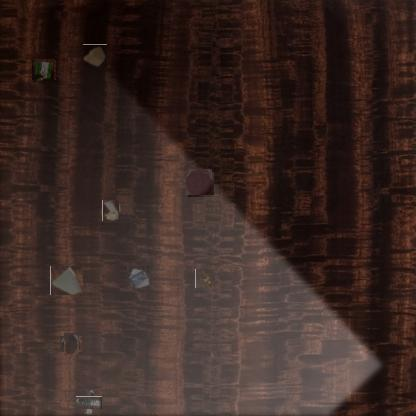dirty: (51, 265, 83, 296), (126, 266, 150, 290), (83, 44, 107, 67), (34, 59, 56, 81), (101, 201, 121, 220), (195, 269, 215, 288), (80, 393, 99, 412)
liquid: (187, 170, 213, 196), (62, 335, 80, 353)
